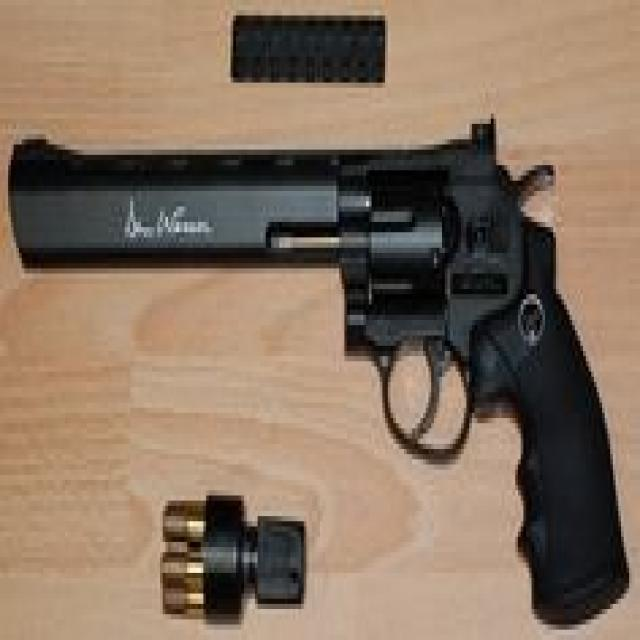revolver: (2, 100, 639, 627)
